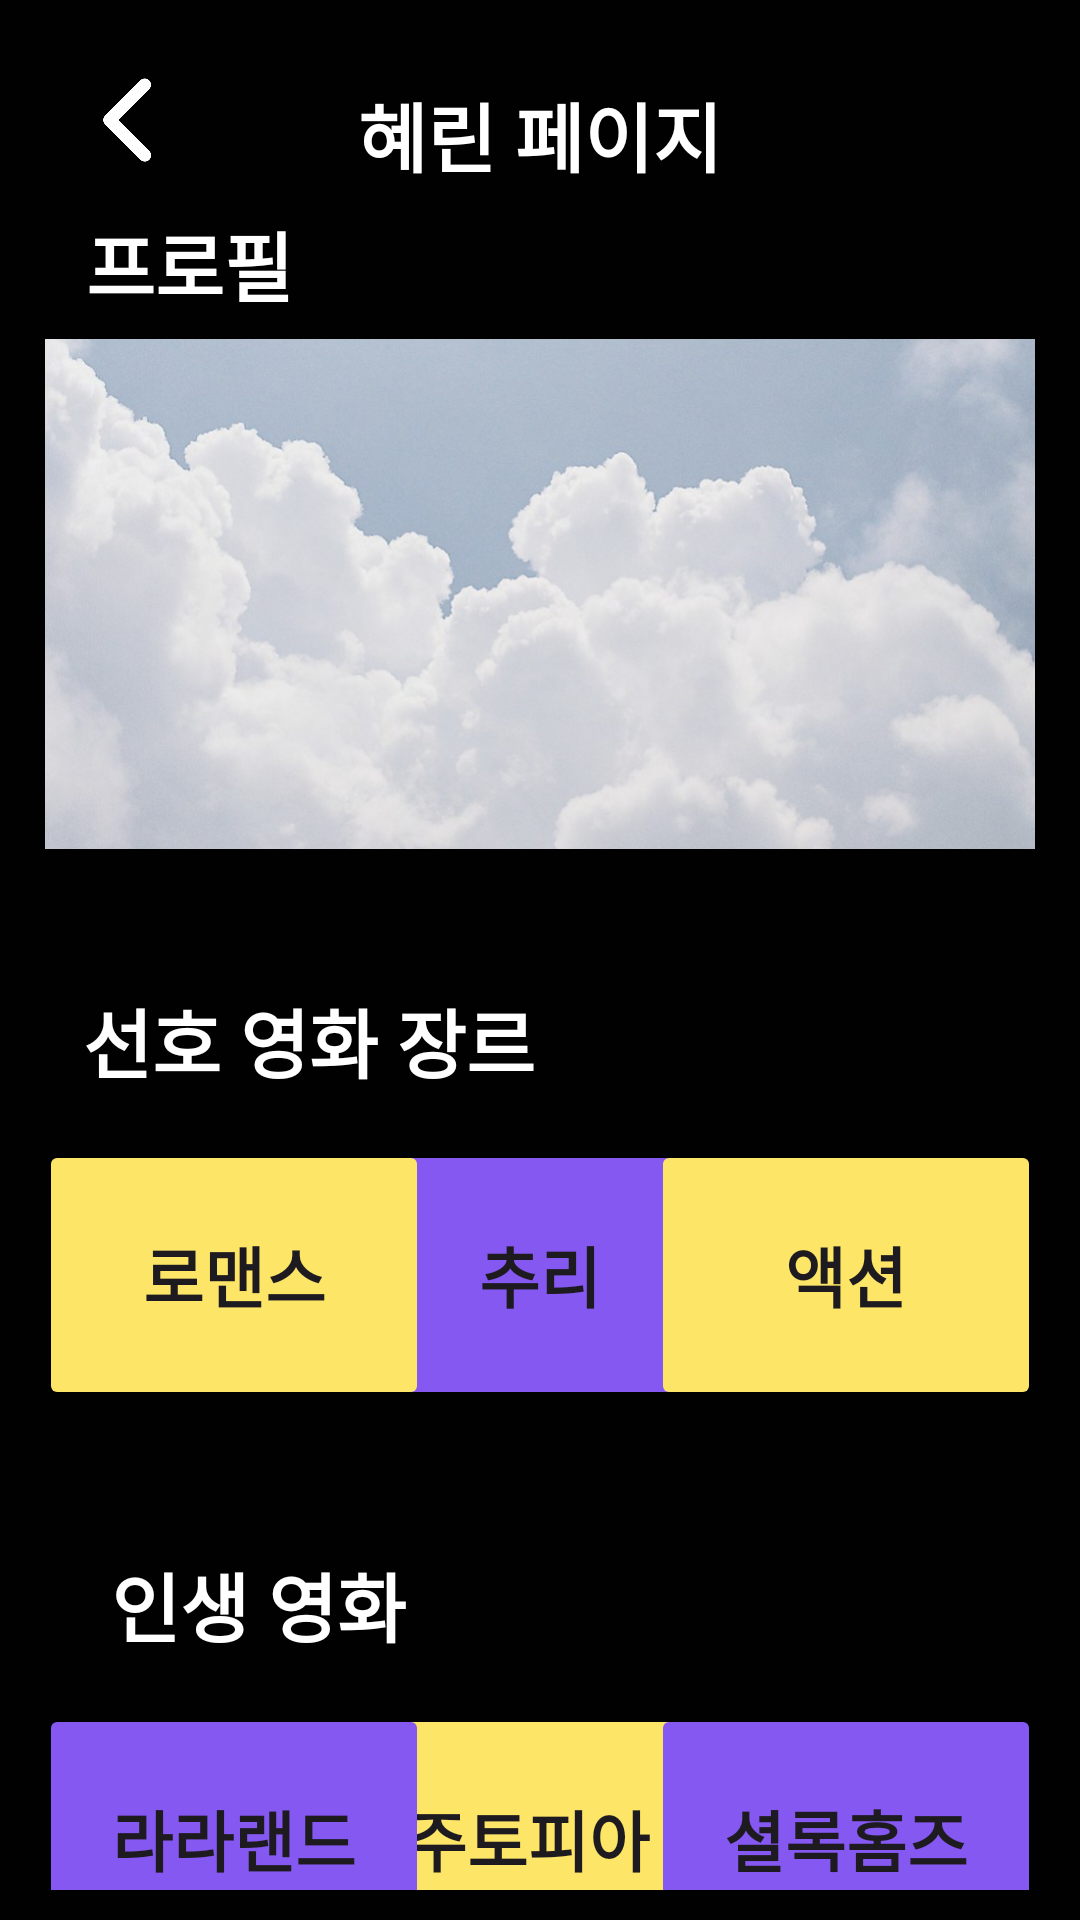

Icon bounding boxes for this 1080px×1920px phone screenshot, format (x1, y1, x2, y2):
back: (103, 78, 151, 162)
